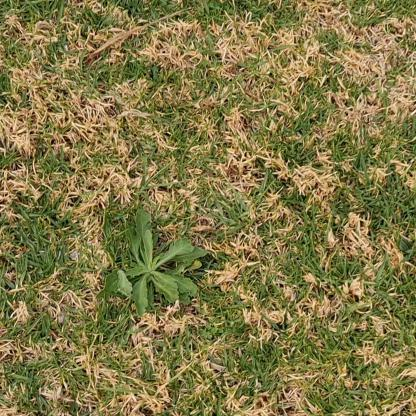Weeds: (93, 202, 209, 320)
